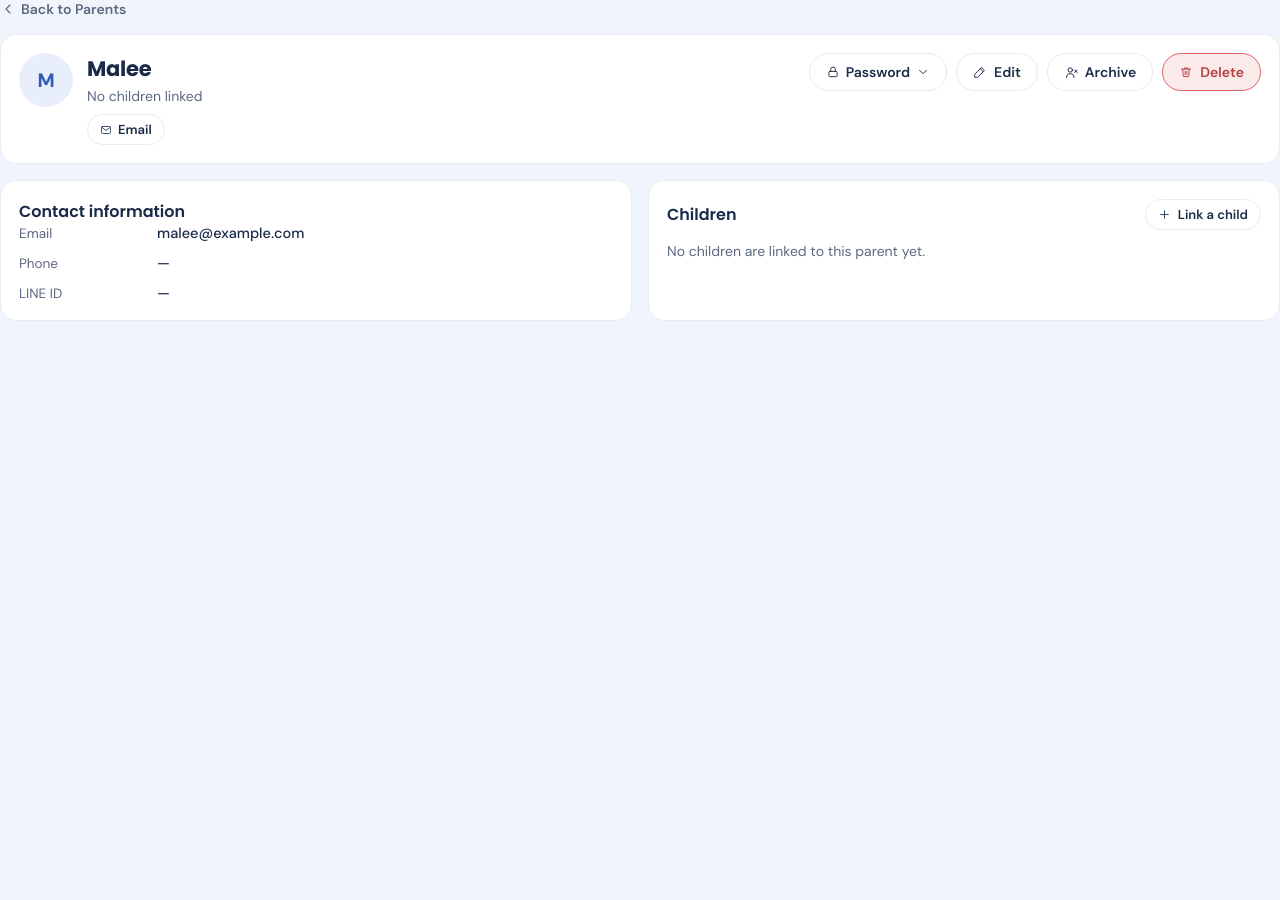
Scenario: a parent who lost their password › can be sent a link from their page, beside the office's own reset
The width and height of the screenshot is (1280, 900).
Click the button "Password": click(878, 72) [809, 53, 947, 91]
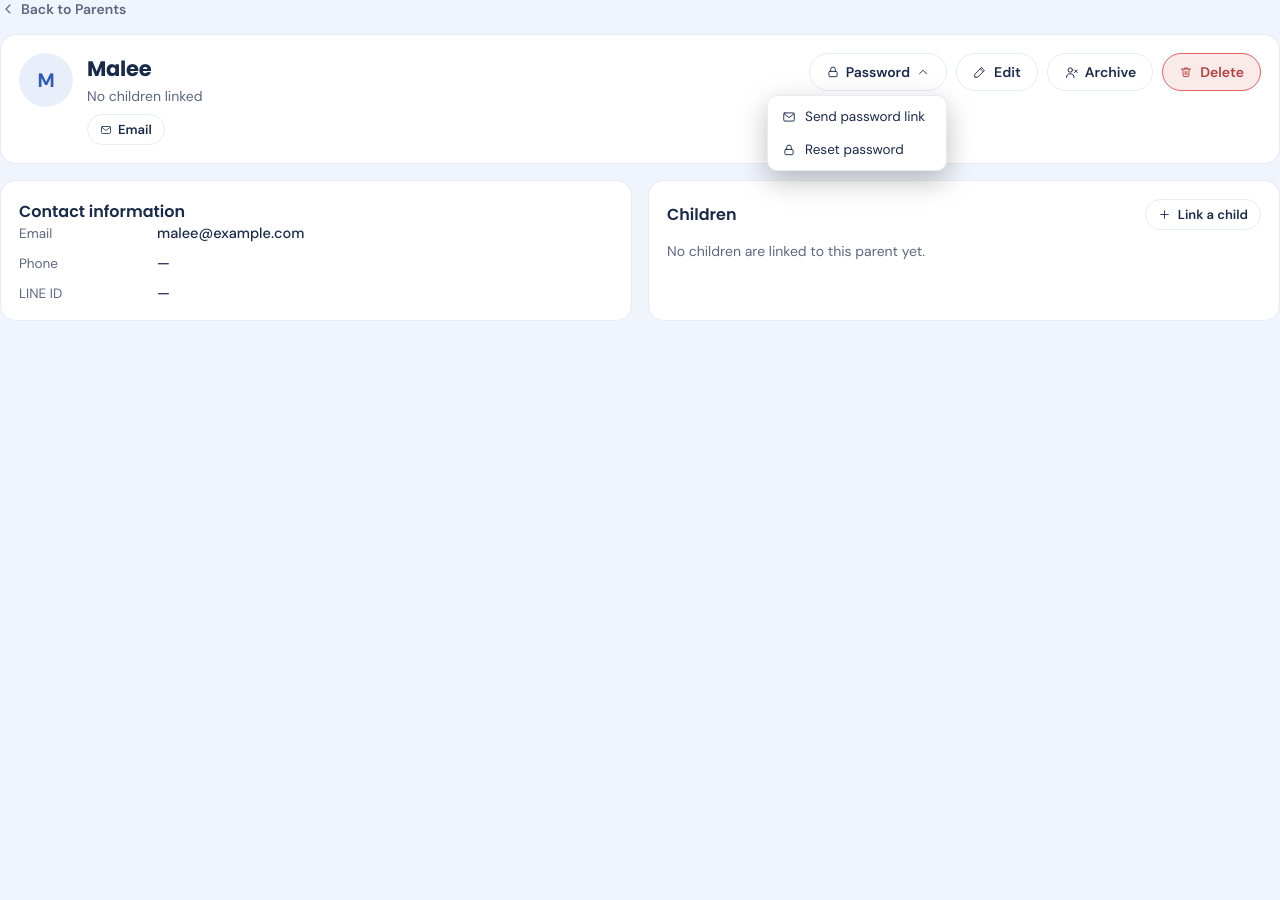
Now the menu item "Reset password" is shown, box [772, 133, 942, 166]
Click the menu item "Send password link": click(857, 116) [772, 100, 942, 133]
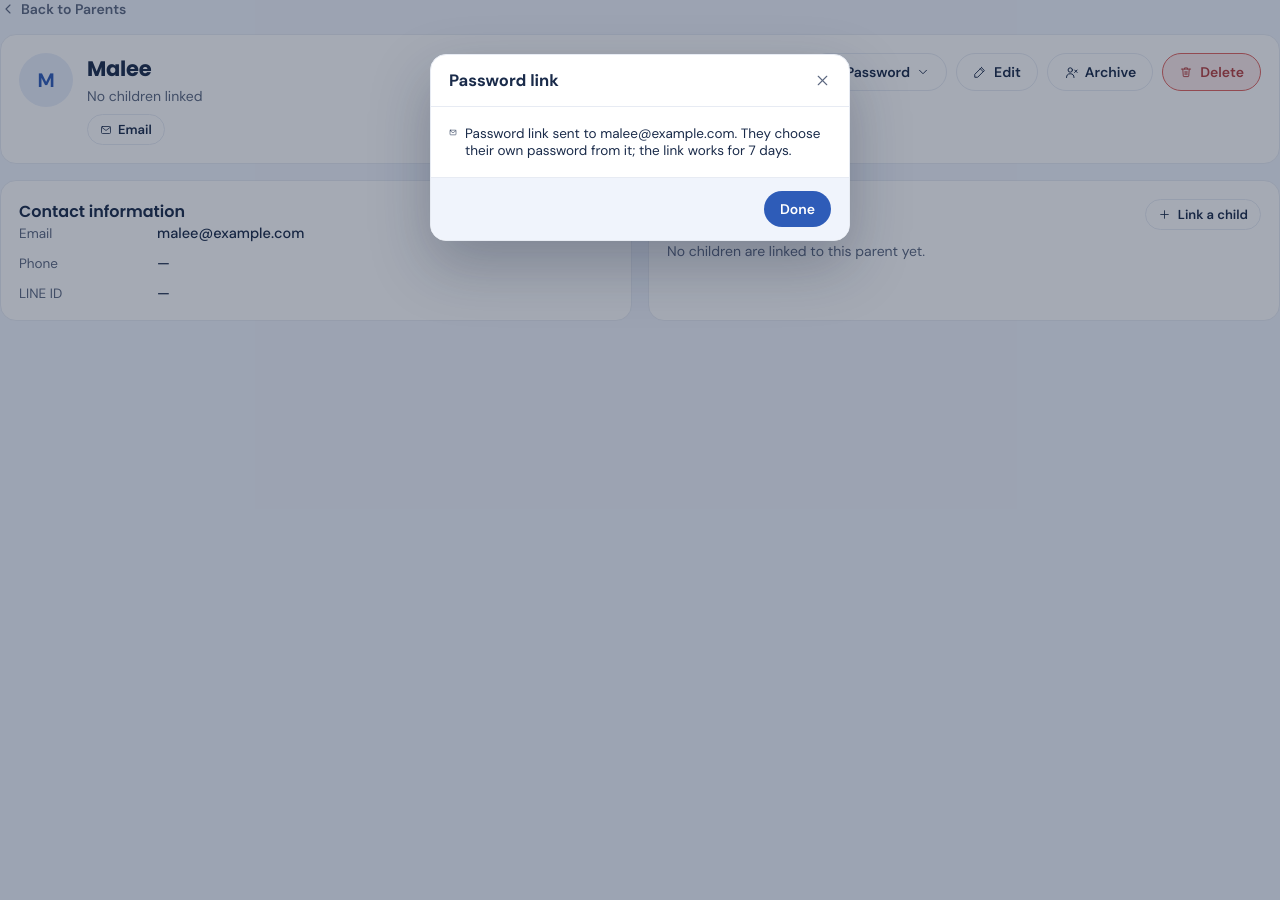
Now the text "Password link sent to malee@example.com" is shown, box [465, 125, 820, 159]
